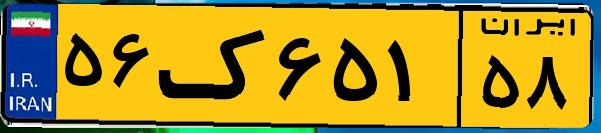1: (385, 28, 445, 110)
5: (330, 28, 385, 110), (57, 26, 110, 100), (475, 38, 525, 113)
6: (270, 28, 330, 110), (110, 28, 158, 98)
8: (525, 38, 570, 115)
ک: (158, 12, 270, 120)
